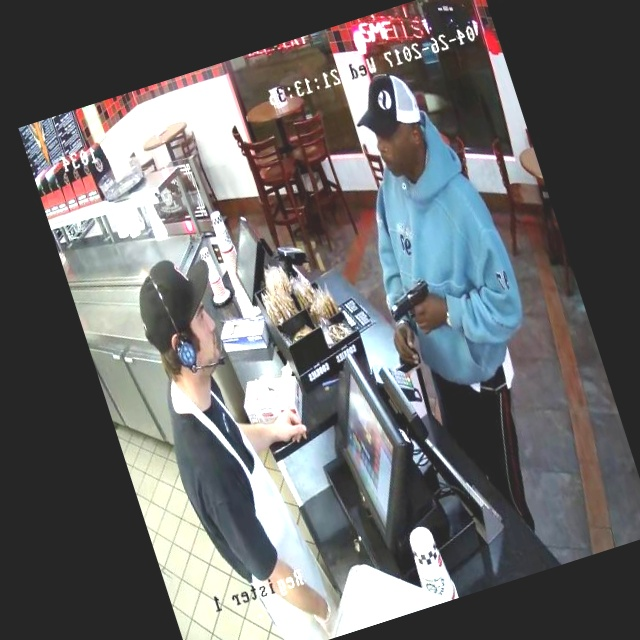gun: (373, 256, 449, 336)
